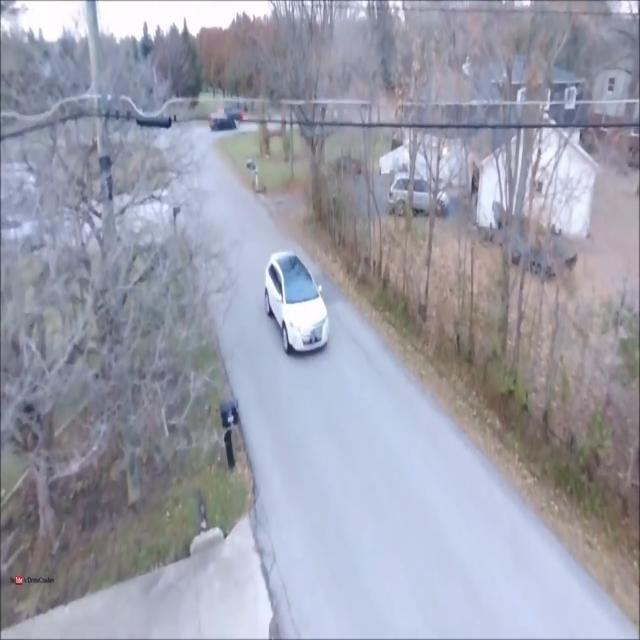Pole: (83, 0, 143, 506)
Tree: (0, 58, 186, 553), (462, 16, 566, 416), (257, 0, 348, 233)
Vehicle: (263, 248, 331, 359), (389, 167, 451, 220), (206, 108, 238, 134), (217, 104, 250, 125)
